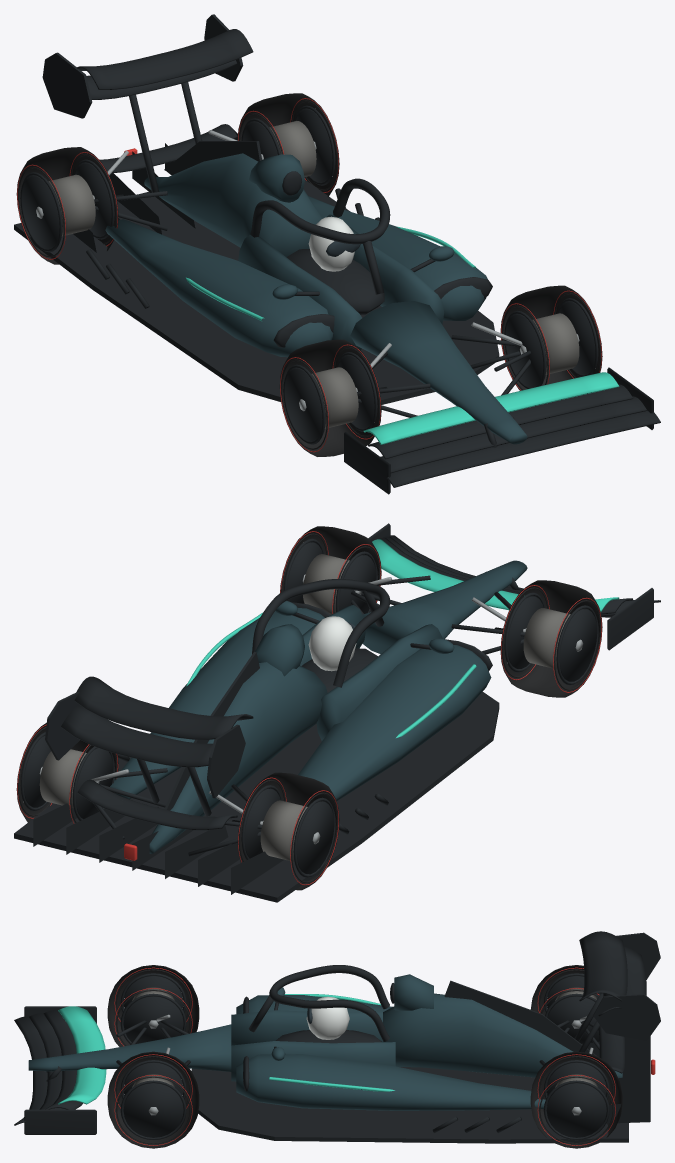
File: car-low.glb
3 renders of one model, top to bottom at view 1: azimuth 30°, elevation 25°; view 2: azimuth 150°, elevation 25°; view 3: azimuth 270°, elevation 25°, orthographic. The views are drawn at different scales.
Visible parts, largest first — view 1: TD_V4_OpenWheel_Carbon.002, TD_V4_OpenWheel_Paint.002, TD_V4_OpenWheel_Accent.002, Wheel_F-1_Carbon.002, Wheel_R-1_Carbon.002, Wheel_F1_Carbon.002, Wheel_F-1_Tyre.002, Wheel_F1_Tyre.002, Wheel_R-1_Tyre.002, Wheel_R1_Carbon.002, Wheel_R1_Tyre.002, Wheel_R-1_BrakeDisc.002 (+4 smaller); view 2: TD_V4_OpenWheel_Carbon.002, TD_V4_OpenWheel_Paint.002, Wheel_F-1_Carbon.002, Wheel_F-1_Tyre.002, Wheel_R-1_Carbon.002, TD_V4_OpenWheel_Accent.002, Wheel_R1_Carbon.002, Wheel_R-1_Tyre.002, Wheel_F1_Carbon.002, Wheel_F1_Tyre.002, Wheel_F-1_BrakeDisc.002, Wheel_R-1_BrakeDisc.002 (+5 smaller); view 3: TD_V4_OpenWheel_Carbon.002, TD_V4_OpenWheel_Paint.002, Wheel_R1_Carbon.002, Wheel_F1_Carbon.002, Wheel_F-1_Carbon.002, TD_V4_OpenWheel_Accent.002, Wheel_F1_Tyre.002, Wheel_R1_Tyre.002, Wheel_F-1_Tyre.002, Wheel_R-1_Carbon.002, TD_V4_OpenWheel_Helmet.002, Wheel_R-1_Tyre.002 (+3 smaller).
Boxes of the visible parts, x1,y1,x2,y2 form: TD_V4_OpenWheel_Carbon.002: (14,14,660,494); TD_V4_OpenWheel_Paint.002: (105,153,527,444); TD_V4_OpenWheel_Accent.002: (186,226,619,444); Wheel_F-1_Carbon.002: (283,352,377,444); Wheel_R-1_Carbon.002: (20,159,114,252); Wheel_F1_Carbon.002: (504,298,598,388); Wheel_F-1_Tyre.002: (279,339,381,456); Wheel_F1_Tyre.002: (500,285,602,390); Wheel_R-1_Tyre.002: (16,147,118,264); Wheel_R1_Carbon.002: (241,105,335,185); Wheel_R1_Tyre.002: (237,93,339,196); Wheel_R-1_BrakeDisc.002: (48,174,95,236); TD_V4_OpenWheel_Carbon.002: (14,523,660,902); TD_V4_OpenWheel_Paint.002: (110,560,527,853); Wheel_F-1_Carbon.002: (504,592,598,685); Wheel_F-1_Tyre.002: (500,580,602,697); Wheel_R-1_Carbon.002: (241,785,335,877); TD_V4_OpenWheel_Accent.002: (186,539,619,737); Wheel_R1_Carbon.002: (20,732,114,820); Wheel_R-1_Tyre.002: (237,772,339,890); Wheel_F1_Carbon.002: (284,538,377,613); Wheel_F1_Tyre.002: (280,526,381,614); Wheel_F-1_BrakeDisc.002: (523,608,570,669); Wheel_R-1_BrakeDisc.002: (260,800,307,861); TD_V4_OpenWheel_Carbon.002: (14,931,660,1143); TD_V4_OpenWheel_Paint.002: (28,974,622,1110); Wheel_R1_Carbon.002: (543,1060,609,1140); Wheel_F1_Carbon.002: (120,1060,186,1140); Wheel_F-1_Carbon.002: (120,973,186,1044); TD_V4_OpenWheel_Accent.002: (58,994,394,1104); Wheel_F1_Tyre.002: (107,1051,199,1148); Wheel_R1_Tyre.002: (530,1051,622,1148); Wheel_F-1_Tyre.002: (107,965,199,1046); Wheel_R-1_Carbon.002: (543,973,600,1043); TD_V4_OpenWheel_Helmet.002: (306,996,349,1039); Wheel_R-1_Tyre.002: (530,965,598,1015).
Bounding box in the file's own units: 2.03 × 1.18 × 5.08.
